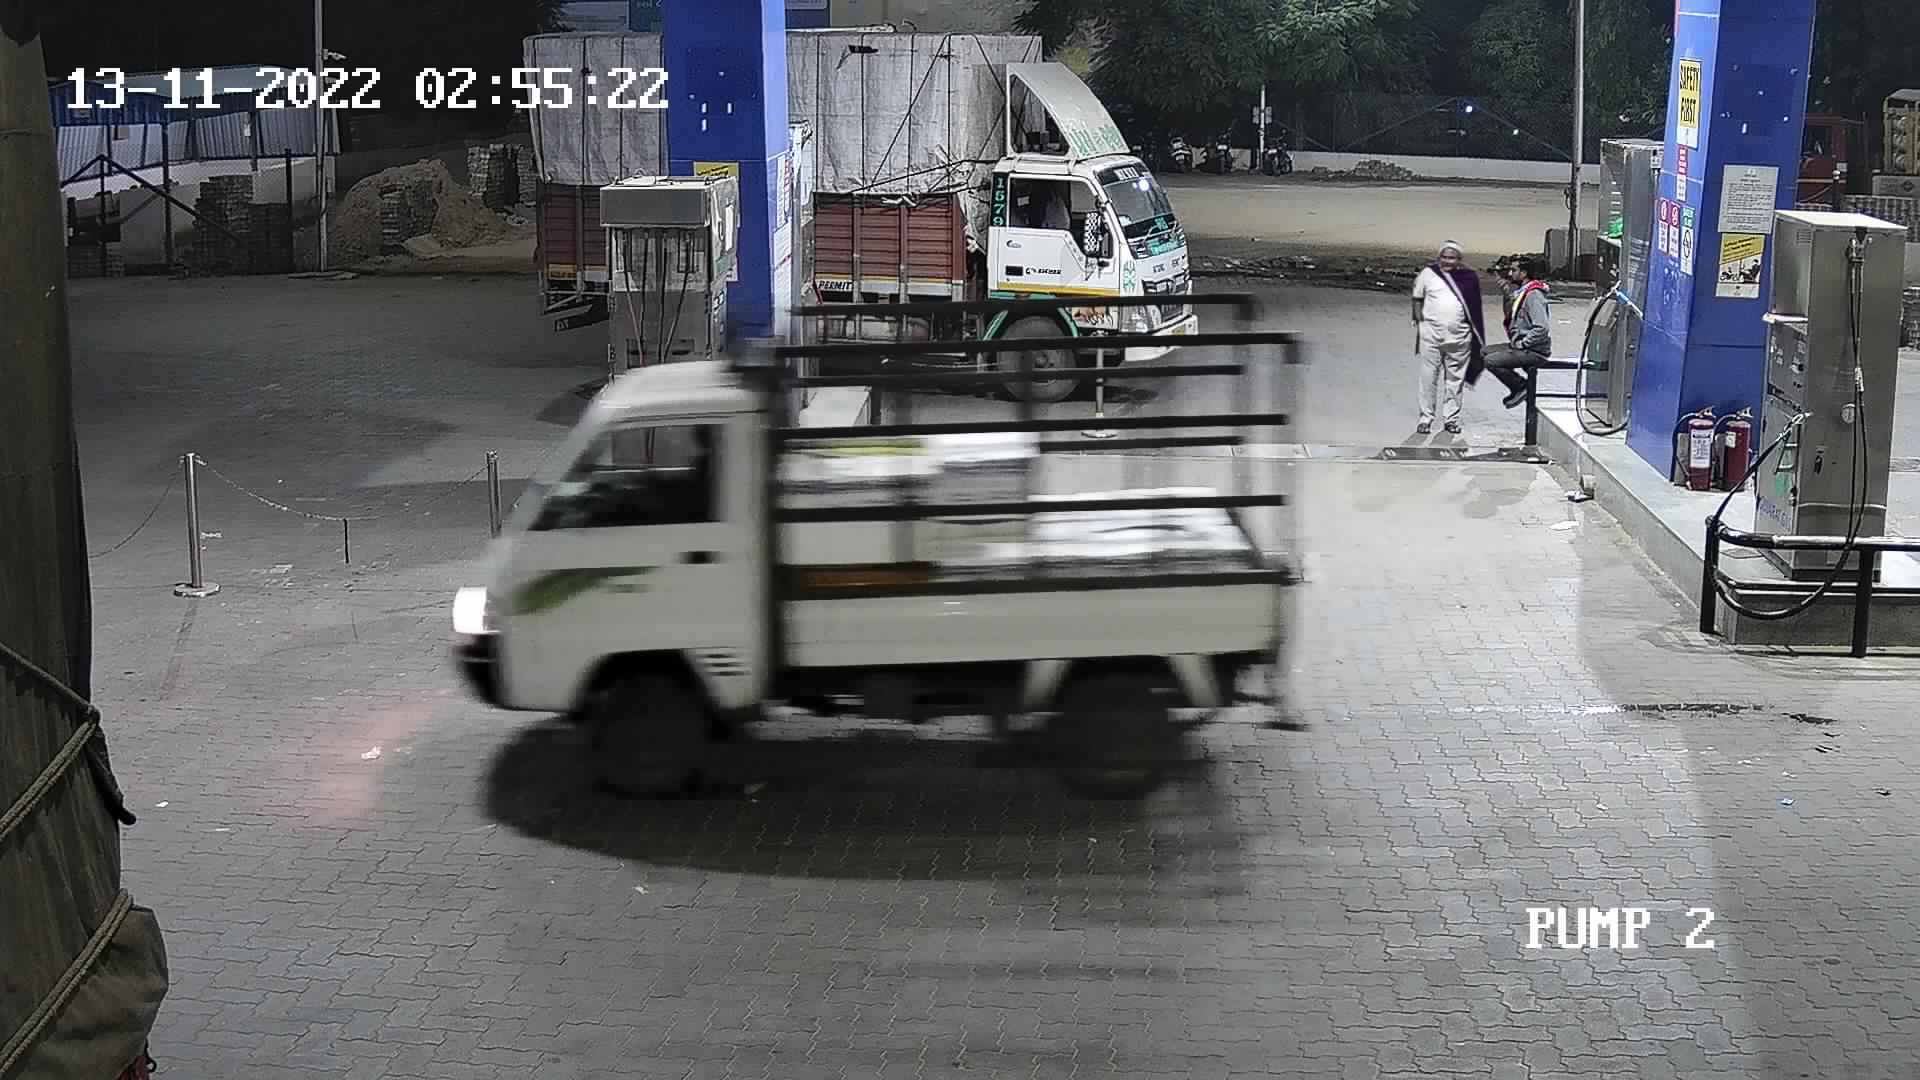Bike: (1249, 123, 1302, 182), (1156, 117, 1207, 179), (1200, 120, 1244, 177)
Car: (444, 284, 1320, 806)
HMV: (3, 3, 214, 1073), (775, 13, 1213, 404), (1770, 76, 1917, 241)
Others: (1472, 248, 1568, 411)
